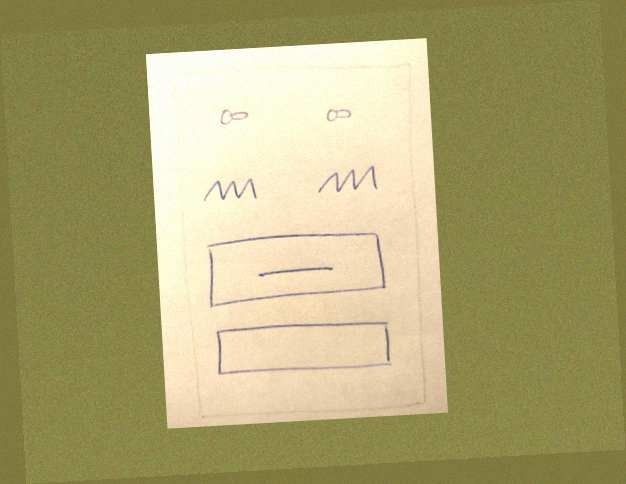button: (201, 223, 390, 311)
switch: (211, 99, 256, 130), (320, 100, 363, 130)
text: (313, 158, 384, 200), (195, 170, 264, 207)
text_input: (210, 315, 399, 383)
